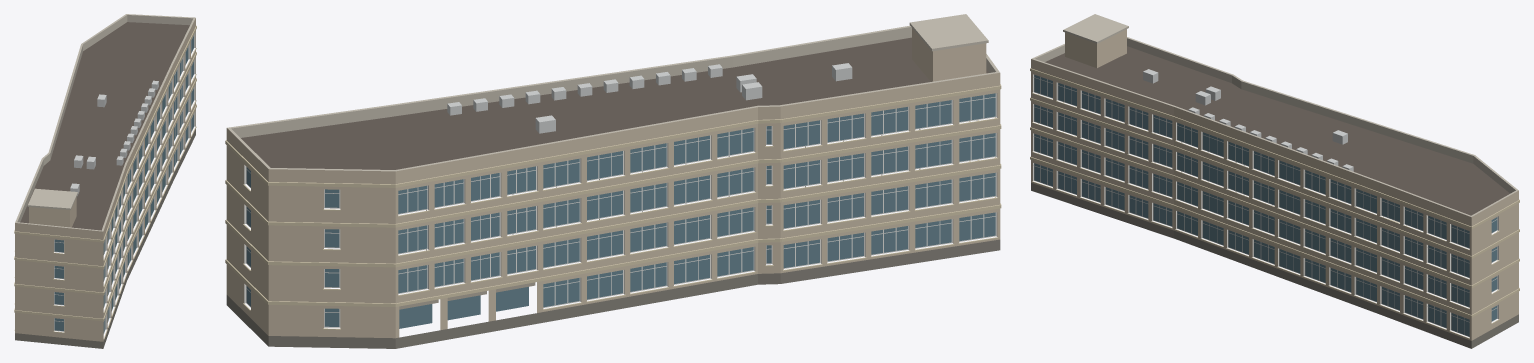
The picture shows the model from 3 angles, left to right: view 1: azimuth 30°, elevation 25°; view 2: azimuth 150°, elevation 25°; view 3: azimuth 270°, elevation 25°; orthographic projection. The views are drawn at different scales.
Parts seen in each view (by area): view 1: wing4__roof, wing4__brick, wing4__trim-concrete, wing4__glass, wing4__frame, wing4__parapet-concrete, wing4__base-stone, wing4__equipment; view 2: wing4__brick, wing4__glass, wing4__roof, wing4__trim-concrete, wing4__frame, wing4__parapet-concrete, wing4__base-stone, wing4__equipment; view 3: wing4__brick, wing4__glass, wing4__roof, wing4__trim-concrete, wing4__frame, wing4__parapet-concrete, wing4__base-stone, wing4__equipment.
Boxes of the visible parts, bbox=[...] form: wing4__roof: bbox=[20, 22, 189, 230]; wing4__brick: bbox=[15, 18, 195, 341]; wing4__trim-concrete: bbox=[14, 25, 196, 339]; wing4__glass: bbox=[54, 36, 193, 333]; wing4__frame: bbox=[54, 32, 195, 333]; wing4__parapet-concrete: bbox=[15, 14, 195, 231]; wing4__base-stone: bbox=[15, 129, 195, 348]; wing4__equipment: bbox=[70, 80, 158, 196]; wing4__brick: bbox=[226, 28, 1000, 338]; wing4__glass: bbox=[246, 93, 995, 328]; wing4__roof: bbox=[241, 37, 988, 169]; wing4__trim-concrete: bbox=[225, 84, 1001, 329]; wing4__frame: bbox=[244, 93, 997, 327]; wing4__parapet-concrete: bbox=[227, 14, 999, 171]; wing4__base-stone: bbox=[226, 239, 1000, 348]; wing4__equipment: bbox=[447, 63, 852, 133]; wing4__brick: bbox=[1031, 29, 1518, 340]; wing4__glass: bbox=[1034, 75, 1497, 336]; wing4__roof: bbox=[1045, 46, 1509, 215]; wing4__trim-concrete: bbox=[1030, 68, 1519, 339]; wing4__frame: bbox=[1033, 74, 1498, 336]; wing4__parapet-concrete: bbox=[1031, 14, 1518, 216]; wing4__base-stone: bbox=[1031, 183, 1518, 348]; wing4__equipment: bbox=[1143, 69, 1353, 171].
Size of the model in its own units: 48.52 by 17.92 by 52.72.
